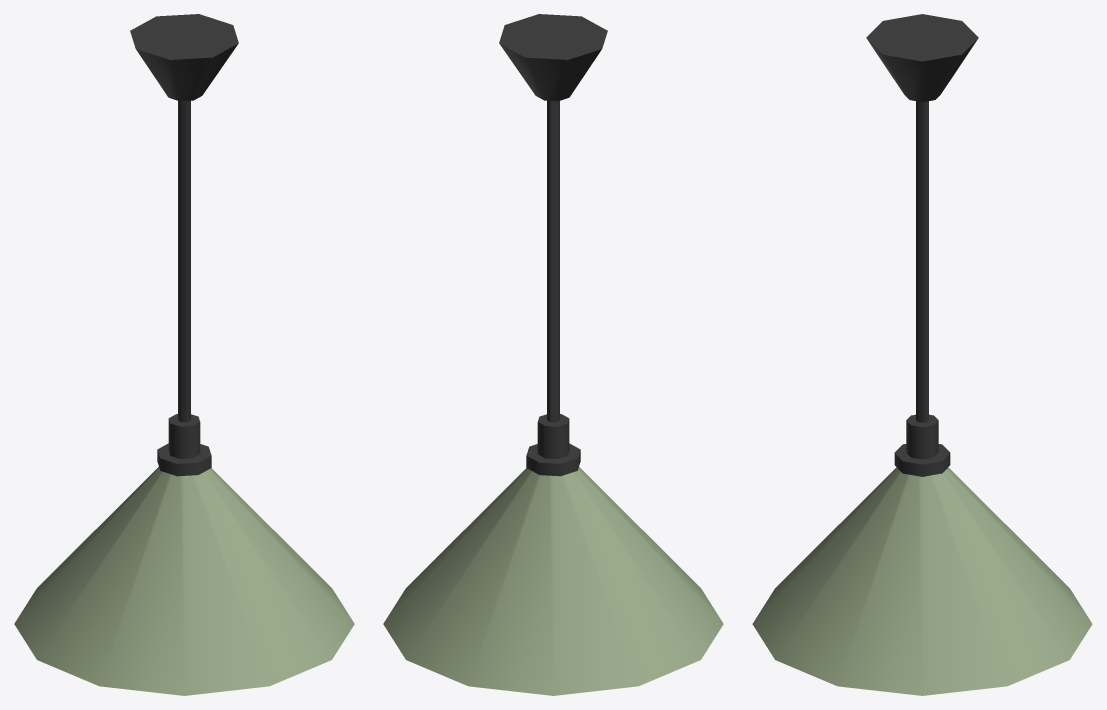
Rendered from CeilingLamp_01.fbx.
3 views of the same model, side by side, from view 1: azimuth 30°, elevation 25°; view 2: azimuth 150°, elevation 25°; view 3: azimuth 270°, elevation 25° (orthographic).
Parts seen in each view (by area): view 1: CeilingLamp_01; view 2: CeilingLamp_01; view 3: CeilingLamp_01.
Part boxes in pixels (<box>): CeilingLamp_01: <box>14,14,354,695</box>; CeilingLamp_01: <box>383,14,723,695</box>; CeilingLamp_01: <box>752,14,1092,695</box>.
Bounding box in the file's own units: 0.2844 × 0.5408 × 0.2844.
